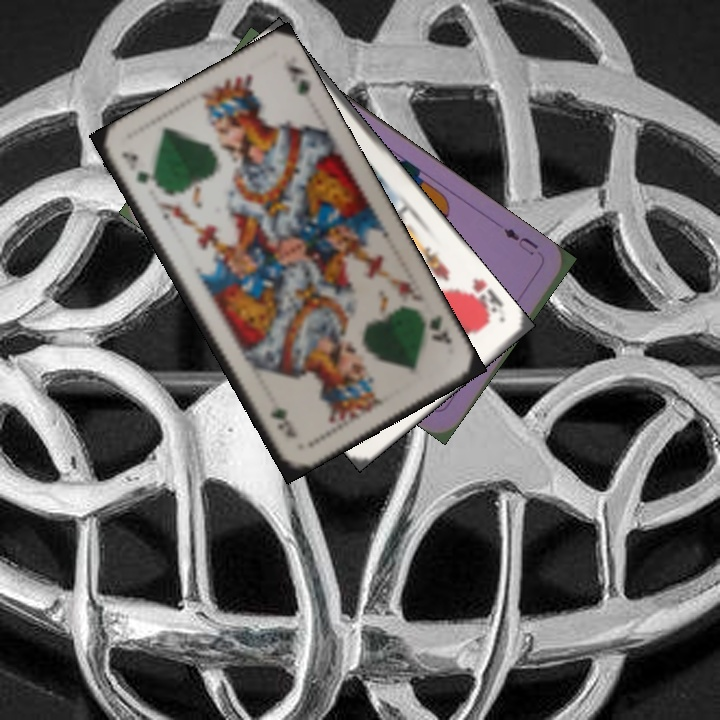EU: (499, 224, 541, 258)
GK: (118, 147, 152, 188), (425, 310, 455, 347)
HK: (459, 274, 506, 324)
